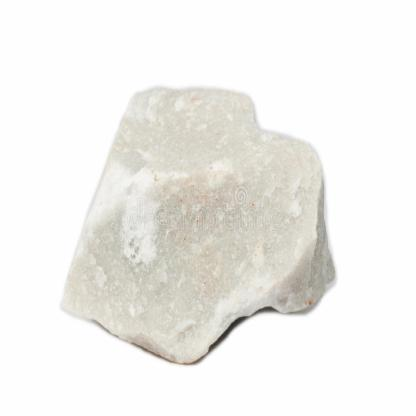Sedimentary_Limestone: (62, 61, 336, 367)
